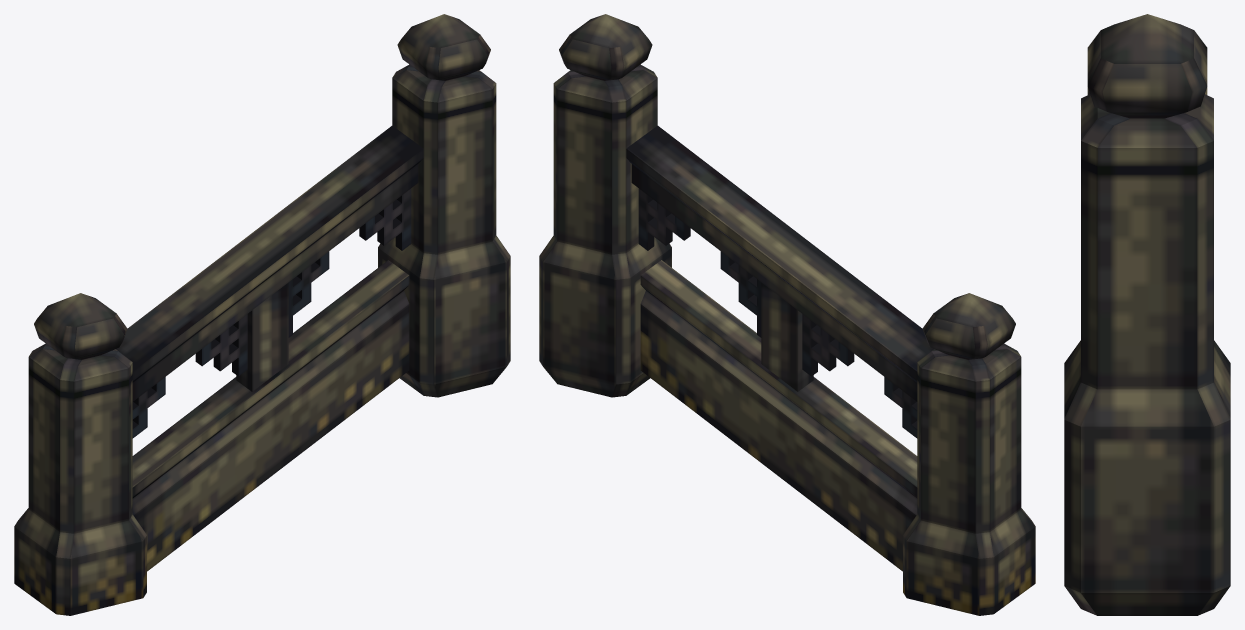
Rendered from EnvMdrMD_Desert_Exterior_StairsSide_B.fbx.
3 views of the same model, side by side, from view 1: azimuth 30°, elevation 25°; view 2: azimuth 150°, elevation 25°; view 3: azimuth 270°, elevation 25° (orthographic). The views are drawn at different scales.
Parts seen in each view (by area): view 1: EnvMdrMD_Desert_Exterior_StairsSide_B; view 2: EnvMdrMD_Desert_Exterior_StairsSide_B; view 3: EnvMdrMD_Desert_Exterior_StairsSide_B.
Part boxes in pixels (x1,y1,x2,y2): EnvMdrMD_Desert_Exterior_StairsSide_B: (14, 14, 510, 615); EnvMdrMD_Desert_Exterior_StairsSide_B: (539, 14, 1035, 615); EnvMdrMD_Desert_Exterior_StairsSide_B: (1064, 14, 1230, 615).
Bounding box in the file's own units: 250 × 255 × 50.
